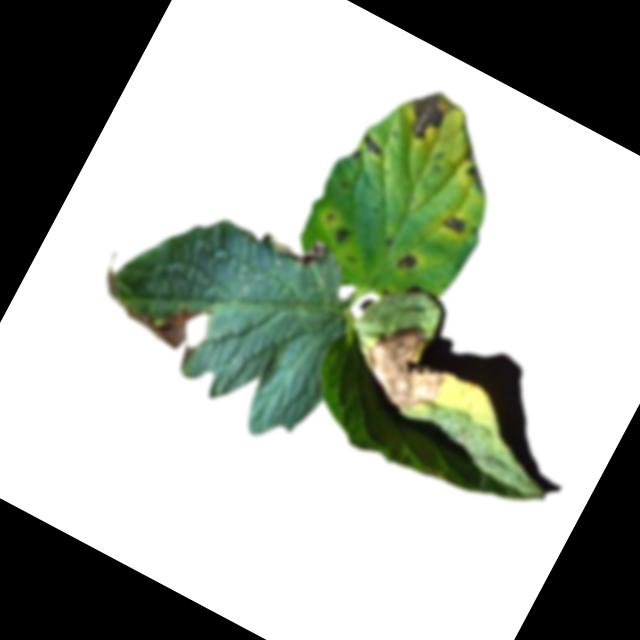Early_blight: (76, 247, 222, 373), (348, 307, 466, 425), (398, 78, 466, 151), (269, 225, 332, 280), (357, 129, 389, 158), (462, 163, 492, 191), (442, 210, 470, 236), (393, 249, 419, 276), (332, 220, 354, 245)
